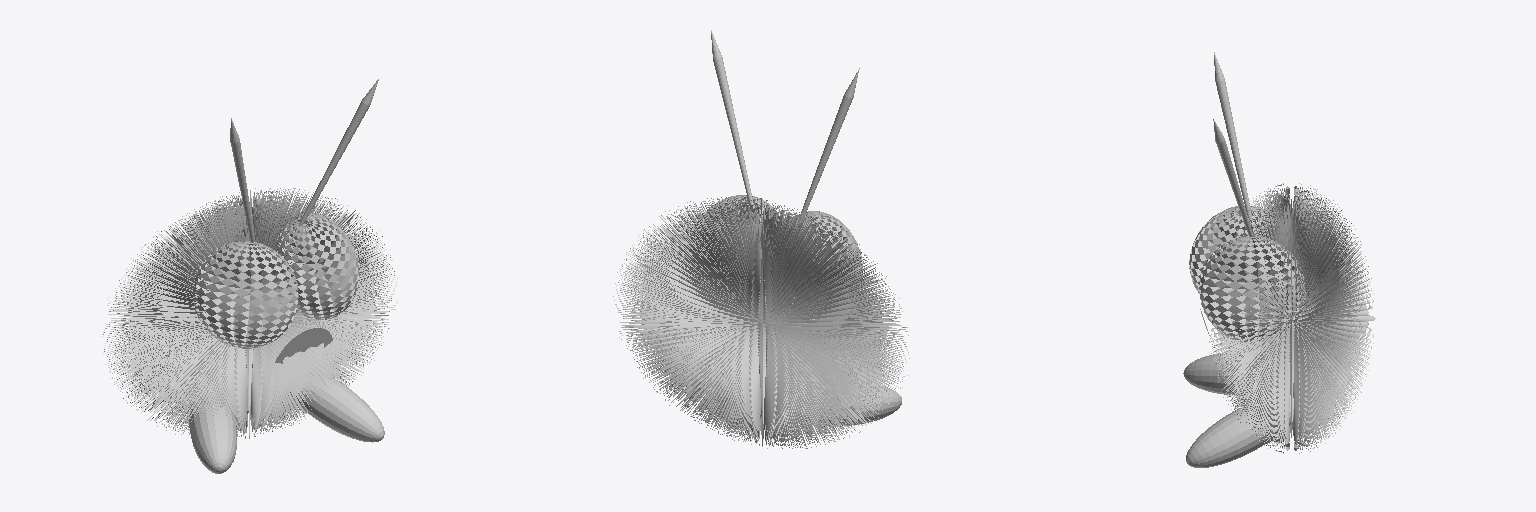
File: Venonat.obj
3 renders of one model, left to right at view 1: azimuth 30°, elevation 25°; view 2: azimuth 150°, elevation 25°; view 3: azimuth 270°, elevation 25°, orthographic.
Visible parts, largest first — view 1: pSuperShape1, polySurface5 polySurface25, polySurface26 polySurface5, pSphere20, pSphere19, polySurface5 polySurface28, polySurface24 polySurface7, polySurface5 polySurface27; view 2: pSuperShape1, polySurface5 polySurface28, polySurface5 polySurface25, polySurface5 polySurface27, pSphere19; view 3: pSuperShape1, polySurface26 polySurface5, pSphere20, polySurface5 polySurface25, pSphere19, polySurface5 polySurface27, polySurface5 polySurface28.
Boxes of the visible parts, box(x1,y1,x2,y2) form: pSuperShape1: box(102, 188, 397, 438); polySurface5 polySurface25: box(193, 241, 298, 348); polySurface26 polySurface5: box(276, 213, 359, 319); pSphere20: box(288, 376, 384, 442); pSphere19: box(189, 398, 236, 473); polySurface5 polySurface28: box(299, 79, 378, 226); polySurface24 polySurface7: box(275, 328, 332, 363); polySurface5 polySurface27: box(230, 118, 254, 241); pSuperShape1: box(613, 197, 909, 448); polySurface5 polySurface28: box(711, 30, 753, 204); polySurface5 polySurface25: box(794, 211, 862, 278); polySurface5 polySurface27: box(799, 68, 859, 220); pSphere19: box(800, 385, 901, 426); pSuperShape1: box(1207, 183, 1375, 453); polySurface26 polySurface5: box(1199, 236, 1305, 343); pSphere20: box(1186, 395, 1293, 467); polySurface5 polySurface25: box(1189, 206, 1273, 293); pSphere19: box(1183, 353, 1237, 395); polySurface5 polySurface27: box(1214, 52, 1252, 222); polySurface5 polySurface28: box(1213, 119, 1252, 236).
Size of the model in its own units: 4 by 4.8 by 2.32.